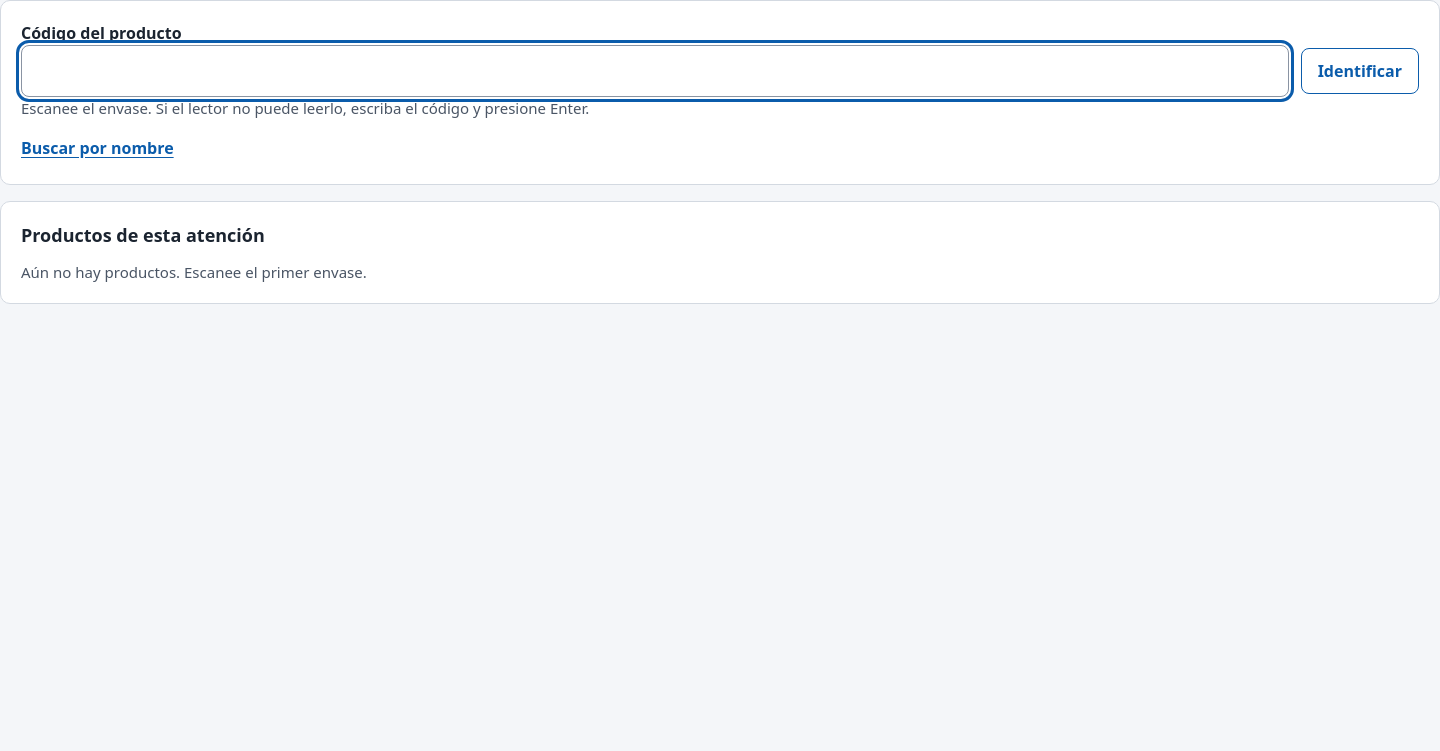
Test: Tramo entregado en el mesón (HU-04) › advierte cuando lo entregado cubre más de lo indicado
Type keys "7802250012344{Enter}"
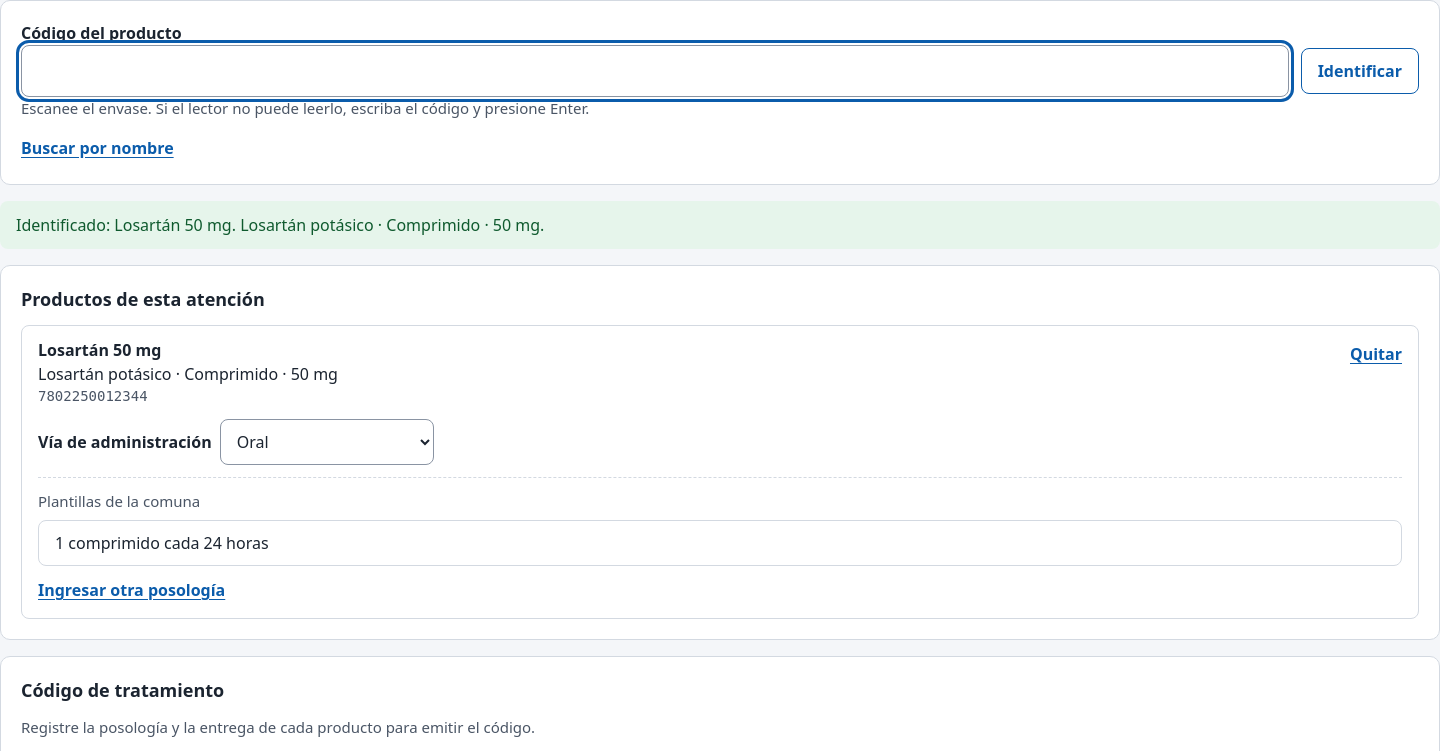
Click the button "1 comprimido cada 24 horas".
click(162, 543)  # box left=38, top=520, right=1402, bottom=566
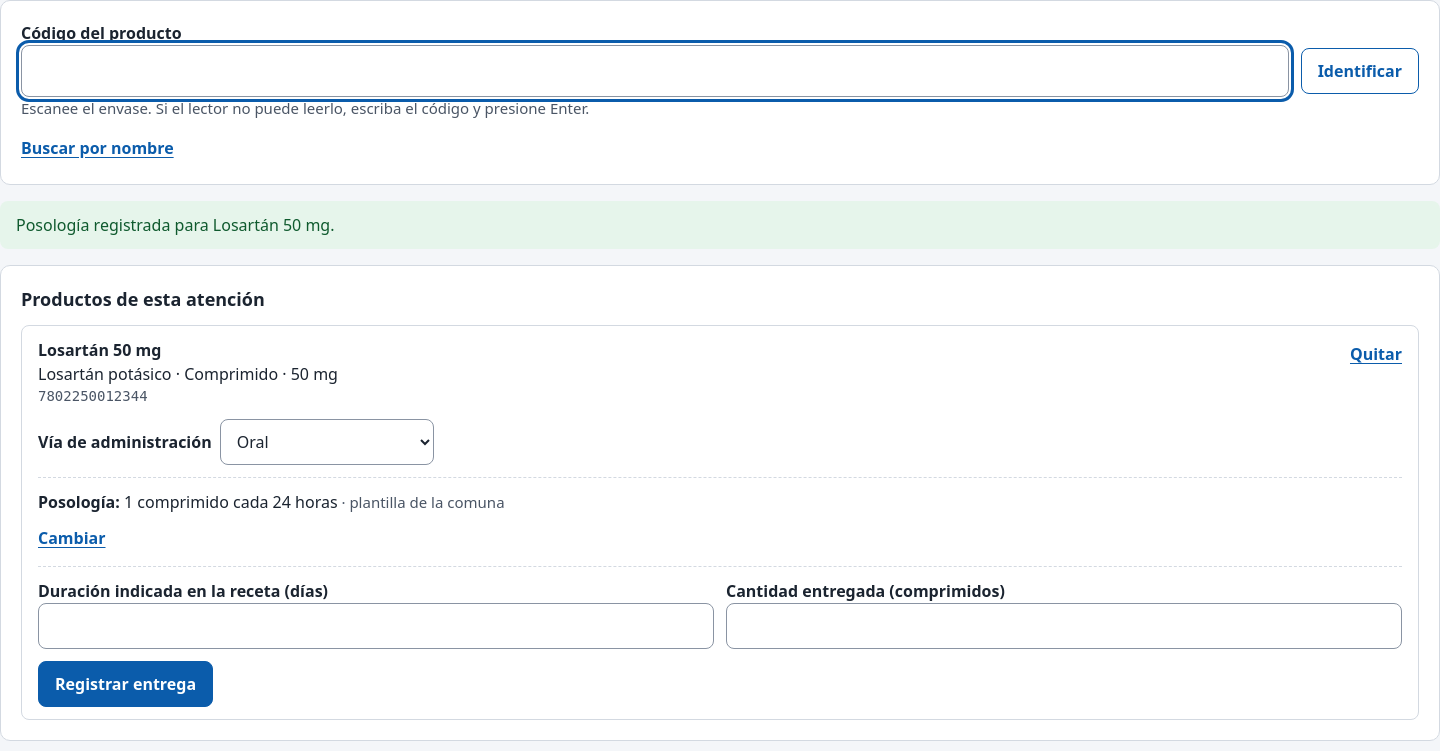
Type "7" into the field labelled "Duración indicada en la receta (días)".
click(376, 626); type("7")  # box left=38, top=602, right=714, bottom=648
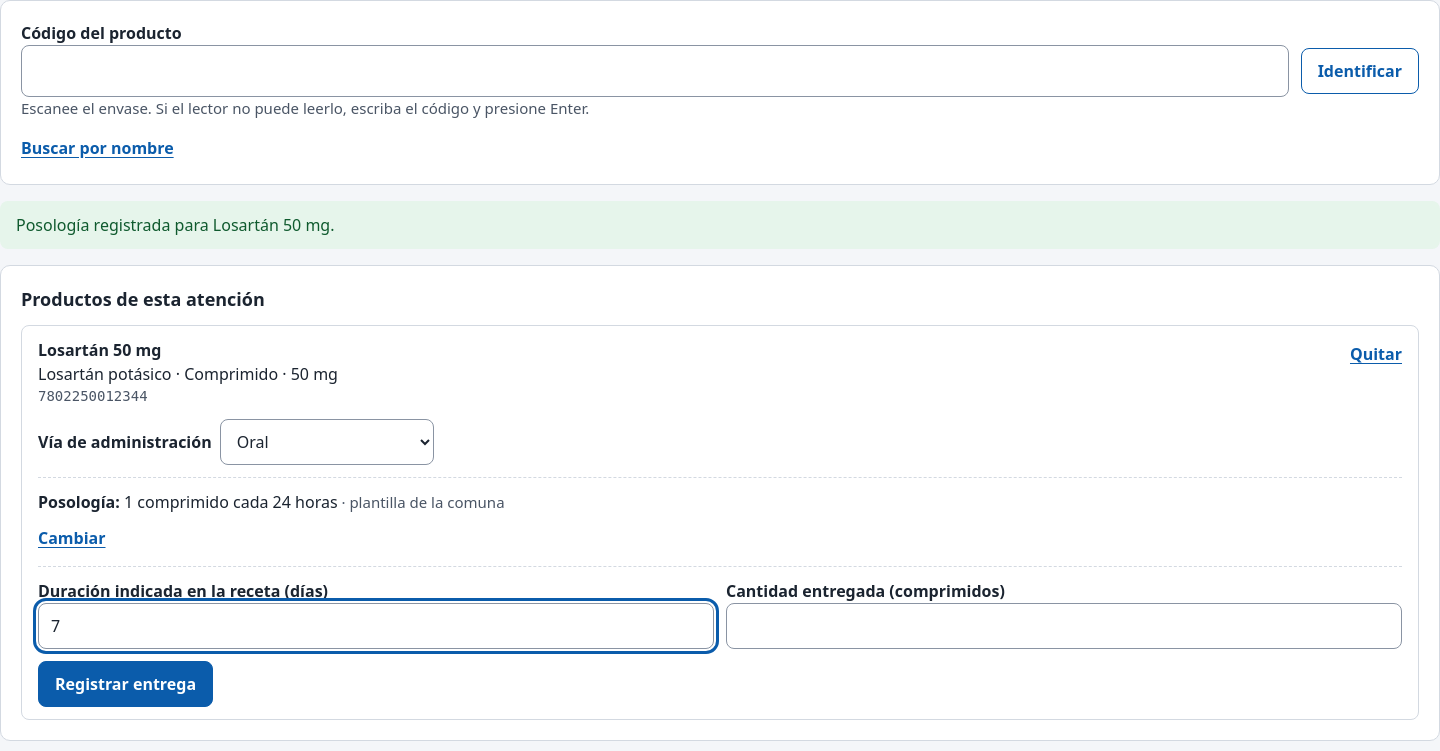
Type "30" into the field labelled "Cantidad entregada (comprimidos)".
click(1064, 626); type("30")  # box left=726, top=602, right=1402, bottom=648
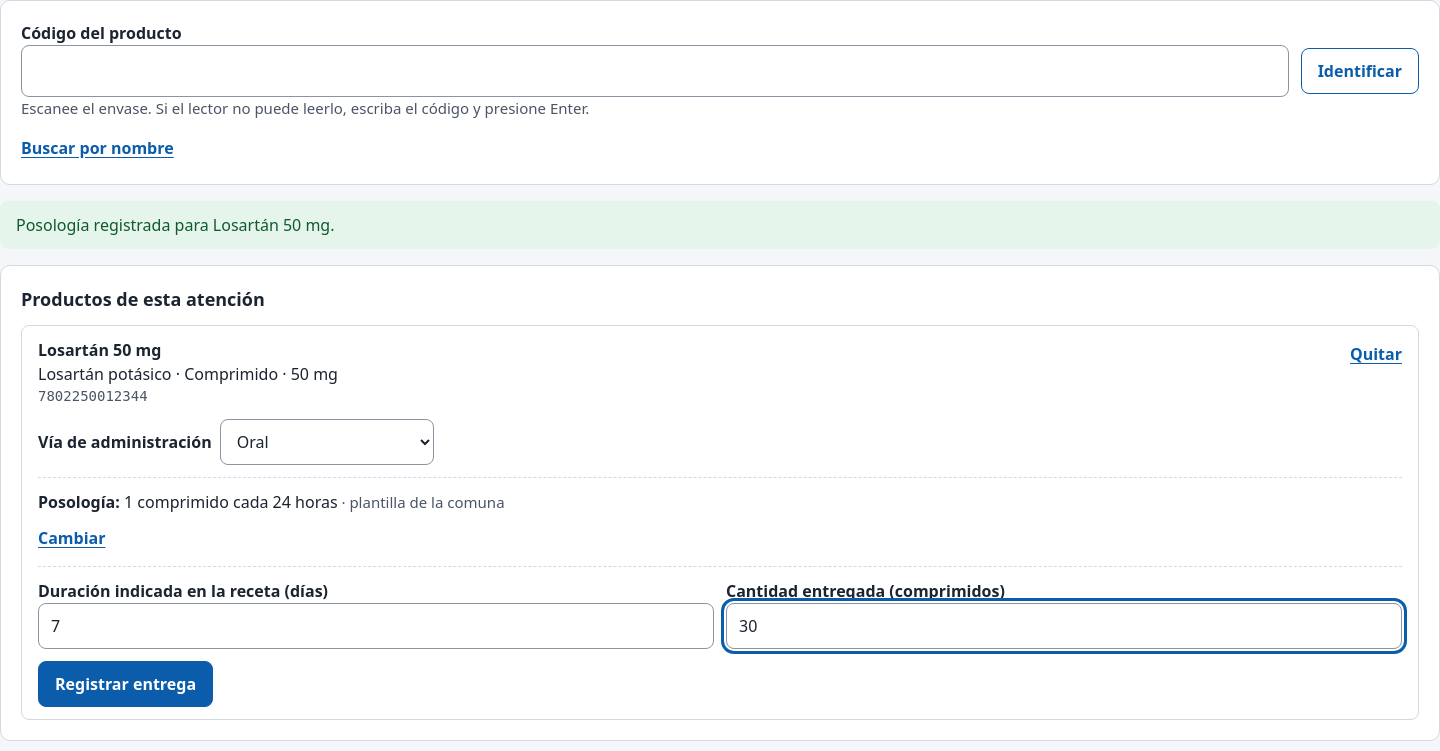
Click the button "Registrar entrega".
click(126, 684)  # box left=38, top=660, right=213, bottom=706
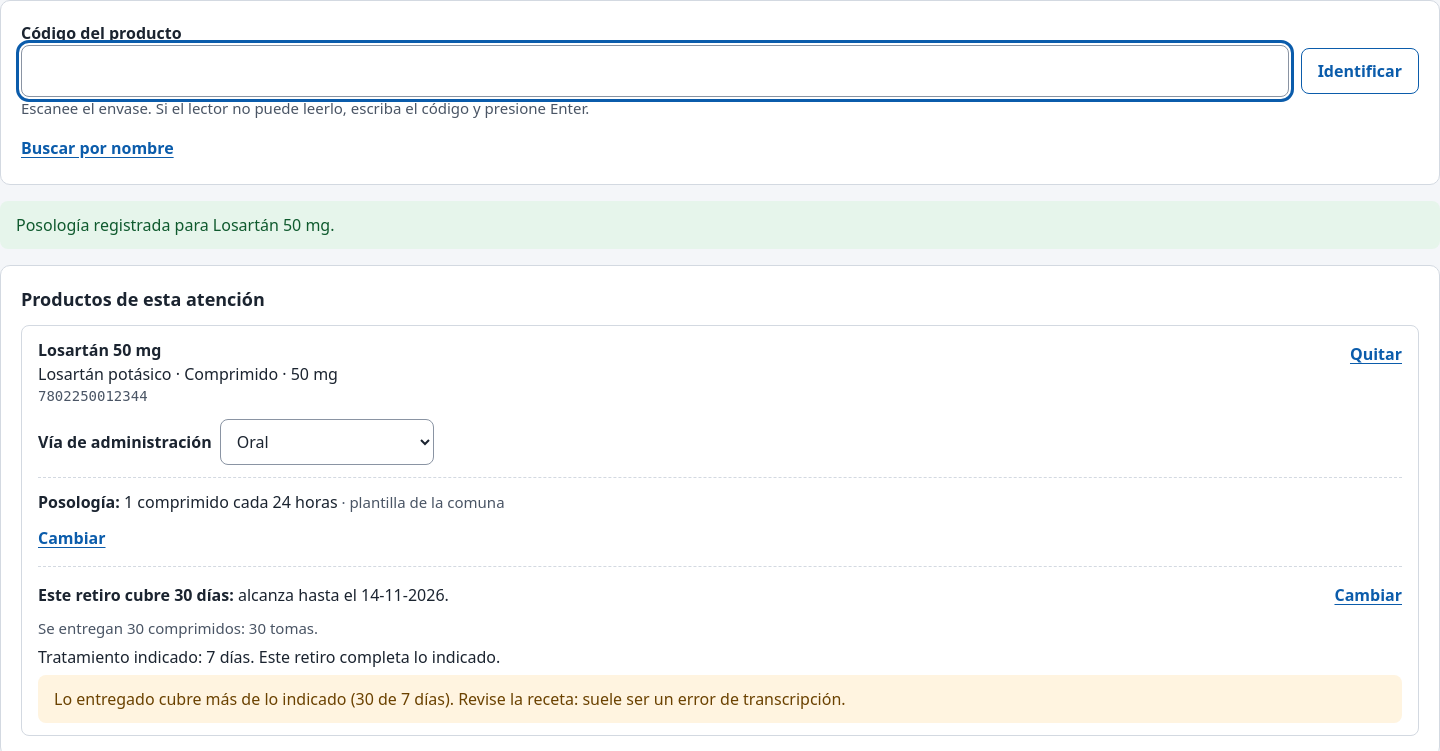
Now the message shows "Lo entregado cubre más de lo indicado (30 de 7 días)", box left=38, top=675, right=1402, bottom=723
Now the text "Este retiro completa lo indicado" is shown, box left=259, top=646, right=500, bottom=668
